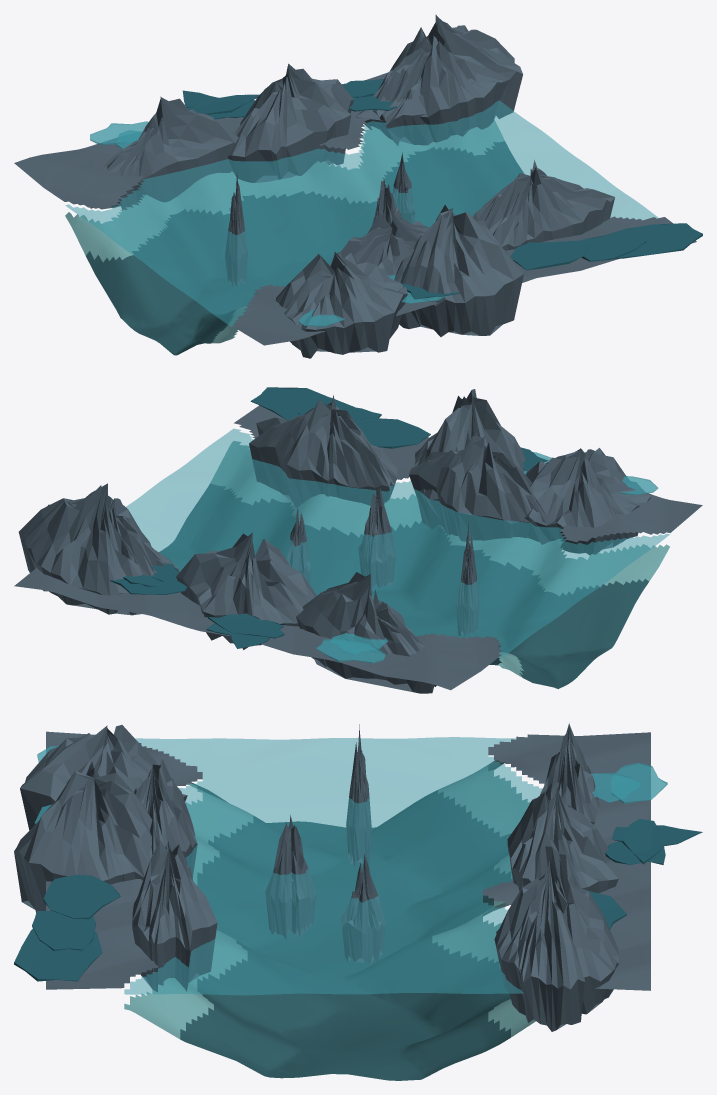
Rendered from water_tile_06.glb.
3 views of the same model, one above another, from view 1: azimuth 30°, elevation 25°; view 2: azimuth 150°, elevation 25°; view 3: azimuth 270°, elevation 25° (orthographic). The views are drawn at different scales.
Visible parts, largest first — view 1: glacial water surface 06, submerged mineral riverbed.006, visible shallow mineral shelves.006, angular fractured shoreline ledge.075, single continuous dark slate shoreline.006, angular fractured shoreline ledge.071, angular fractured shoreline ledge.068, angular fractured shoreline ledge.072, angular fractured shoreline ledge.070, angular fractured shoreline ledge.073, angular fractured shoreline ledge.069, angular fractured shoreline ledge.074 (+9 smaller); view 2: glacial water surface 06, submerged mineral riverbed.006, single continuous dark slate shoreline.006, visible shallow mineral shelves.006, angular fractured shoreline ledge.073, angular fractured shoreline ledge.074, angular fractured shoreline ledge.071, angular fractured shoreline ledge.072, angular fractured shoreline ledge.069, angular fractured shoreline ledge.070, angular fractured shoreline ledge.075, angular fractured shoreline ledge.068 (+11 smaller); view 3: glacial water surface 06, submerged mineral riverbed.006, single continuous dark slate shoreline.006, visible shallow mineral shelves.006, angular fractured shoreline ledge.075, angular fractured shoreline ledge.068, angular fractured shoreline ledge.073, angular fractured shoreline ledge.071, angular fractured shoreline ledge.072, angular fractured shoreline ledge.069, underwater worn boulder.022, angular fractured shoreline ledge.074 (+12 smaller).
Part boxes in pixels (x1,y1,x2,y2): glacial water surface 06: (65,100,658,326); submerged mineral riverbed.006: (86,141,524,355); visible shallow mineral shelves.006: (65,119,504,343); angular fractured shoreline ledge.075: (394,204,523,336); single continuous dark slate shoreline.006: (14,72,696,345); angular fractured shoreline ledge.071: (227,63,353,182); angular fractured shoreline ledge.068: (373,19,522,145); angular fractured shoreline ledge.072: (275,252,407,358); angular fractured shoreline ledge.070: (90,96,238,209); angular fractured shoreline ledge.073: (472,160,614,250); angular fractured shoreline ledge.069: (356,14,502,142); angular fractured shoreline ledge.074: (329,207,429,276); glacial water surface 06: (126,428,669,657); submerged mineral riverbed.006: (159,483,648,688); single continuous dark slate shoreline.006: (14,405,702,690); visible shallow mineral shelves.006: (210,441,669,677); angular fractured shoreline ledge.073: (249,395,397,507); angular fractured shoreline ledge.074: (409,435,551,541); angular fractured shoreline ledge.071: (176,532,316,649); angular fractured shoreline ledge.072: (524,448,651,555); angular fractured shoreline ledge.069: (30,485,155,615); angular fractured shoreline ledge.070: (296,572,436,693); angular fractured shoreline ledge.075: (414,389,526,520); angular fractured shoreline ledge.068: (18,483,180,591); glacial water surface 06: (124,737,542,995); submerged mineral riverbed.006: (180,783,512,1080); single continuous dark slate shoreline.006: (46,731,650,990); visible shallow mineral shelves.006: (124,760,535,1039); angular fractured shoreline ledge.075: (14,762,152,912); angular fractured shoreline ledge.068: (494,859,584,1031); angular fractured shoreline ledge.073: (132,840,217,991); angular fractured shoreline ledge.071: (507,785,618,893); angular fractured shoreline ledge.072: (20,725,187,830); angular fractured shoreline ledge.069: (496,859,618,1014); underwater worn boulder.022: (265,815,316,939); angular fractured shoreline ledge.074: (134,759,197,877).
Size of the model in its own units: 1.07 by 0.3586 by 1.14.
